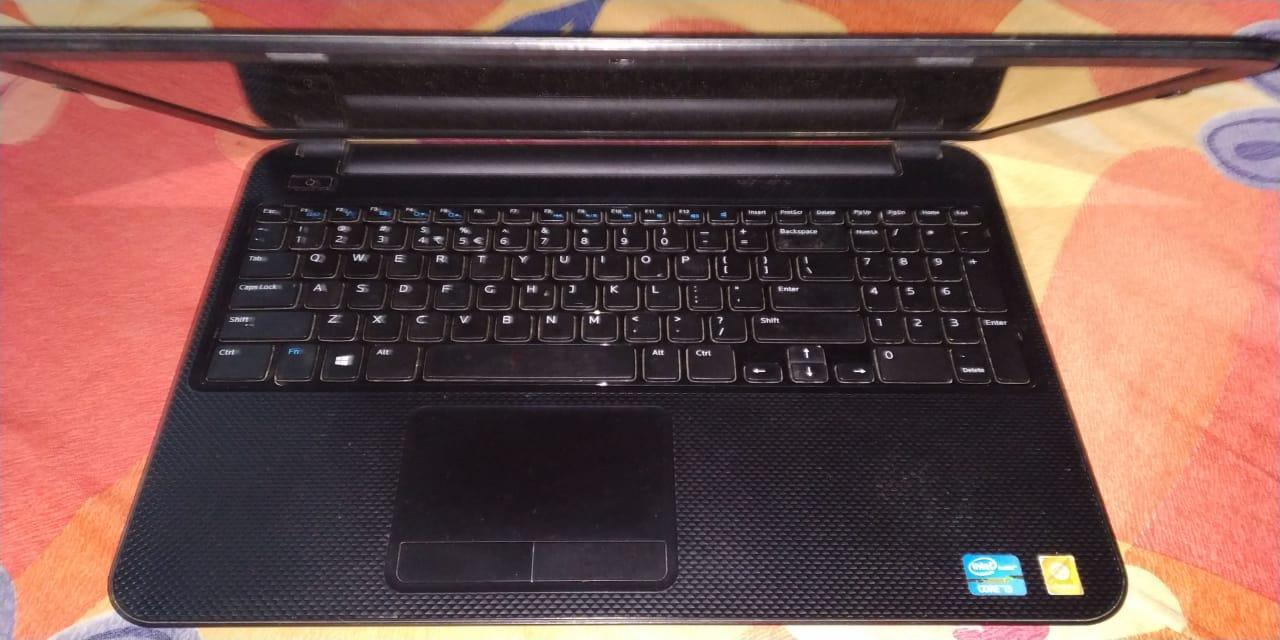laptop: (1, 19, 1171, 633)
